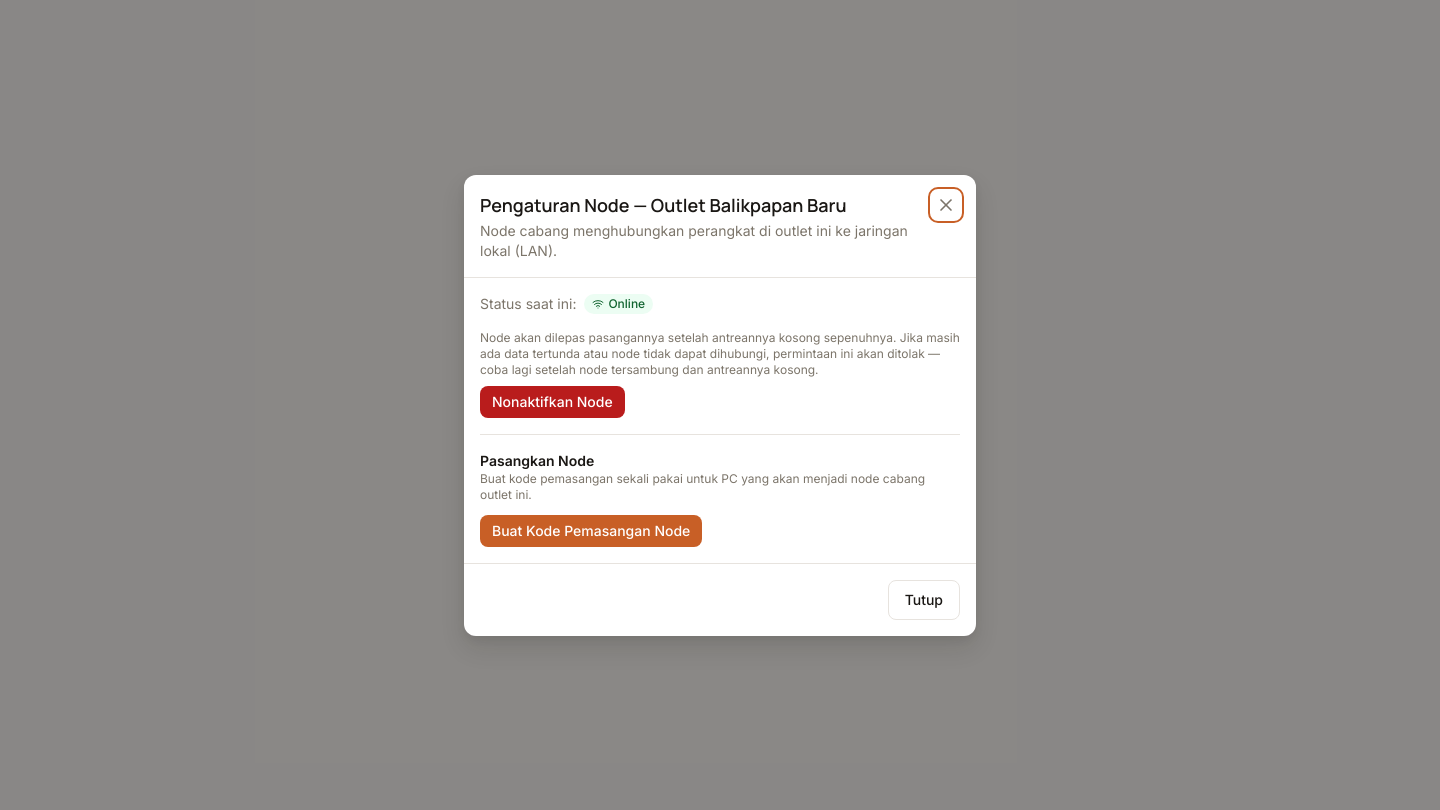
NodeSettingModal › offers minting a node pairing code once enabled with no node paired yet, and shows the display code
Click the button "Buat Kode Pemasangan Node" at (591, 530), box [480, 514, 702, 546]
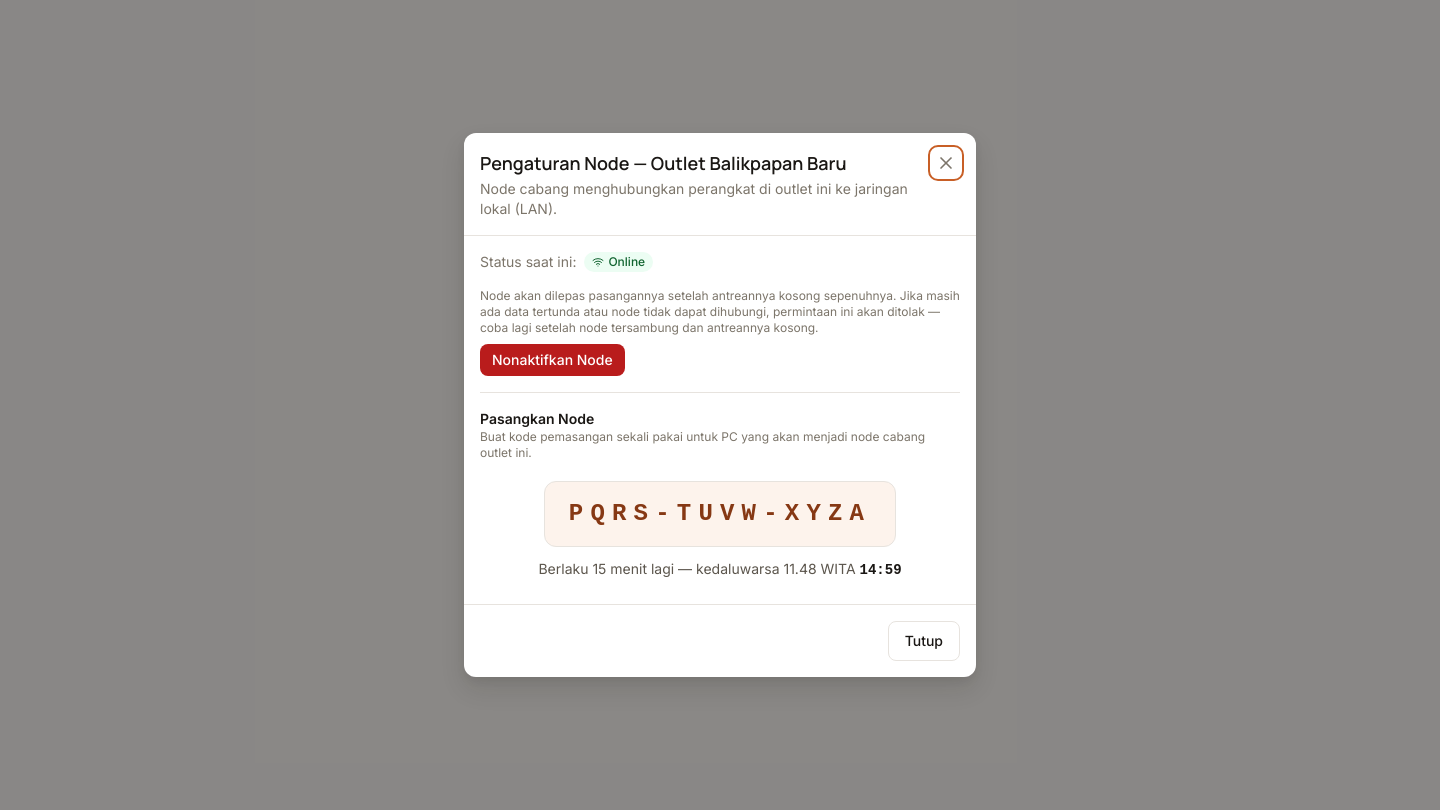
Now the text "PQRS-TUVW-XYZA" is shown, box [544, 481, 896, 547]
